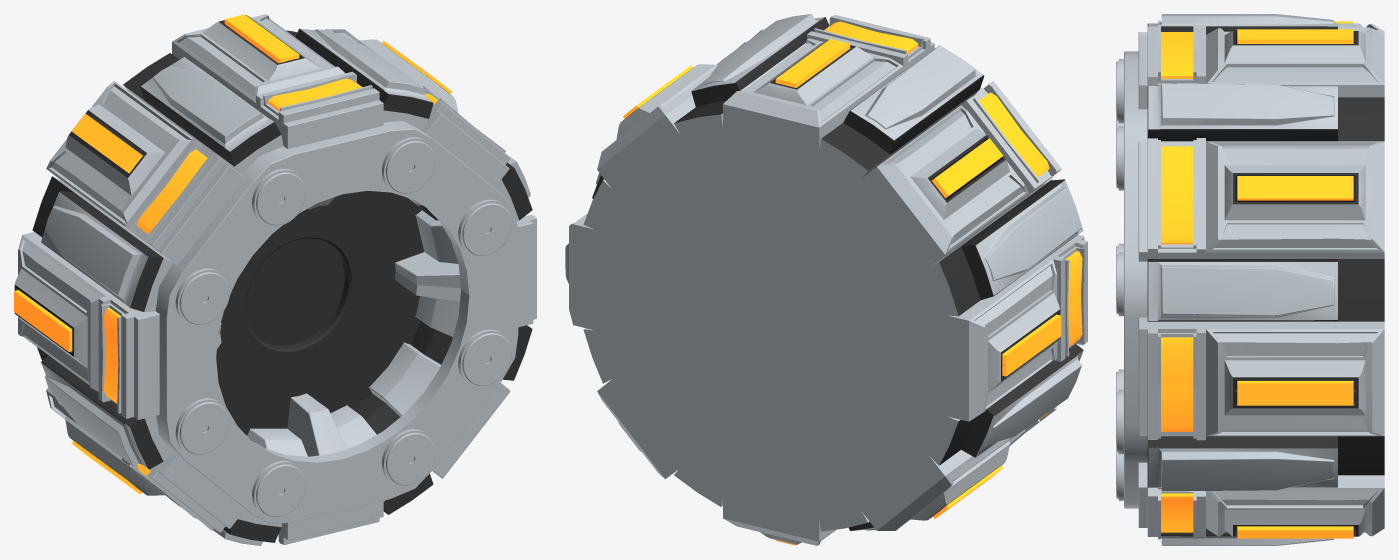
Rendered from fast.gltf.
The picture shows the model from 3 angles, left to right: view 1: azimuth 30°, elevation 25°; view 2: azimuth 150°, elevation 25°; view 3: azimuth 270°, elevation 25°; orthographic projection. The views are drawn at different scales.
Visible parts, largest first — view 1: Cube; view 2: Cube; view 3: Cube.
Part boxes in pixels (left/top/right/bottom): Cube: left=14, top=14, right=536, bottom=545; Cube: left=565, top=14, right=1087, bottom=545; Cube: left=1116, top=14, right=1384, bottom=545.
Bounding box in the file's own units: 8.11 × 8.11 × 4.02.
